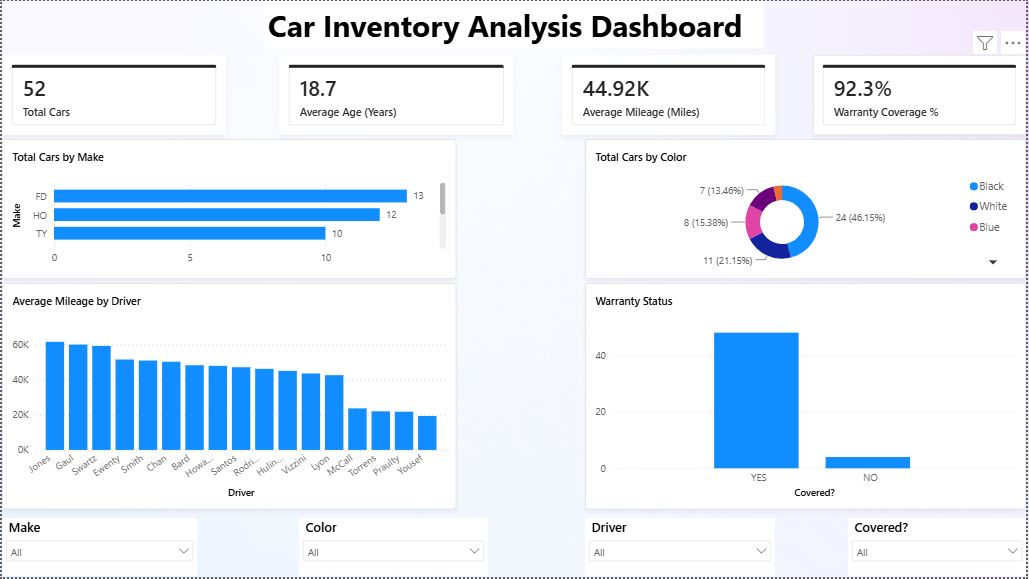

Layout of this report page (visuals, bound fields, positions):
{"tool":"powerbi","page":{"name":"Dashboard","canvas":[1280,720],"ordinal":0},"visuals":[{"type":"cardVisual","fields":{"Data":["Measures .Total Cars"]},"box":[0,68,280,100],"z":0},{"type":"cardVisual","fields":{"Data":["Measures .Average Age"]},"box":[346.7,68,293.3,100],"z":1000},{"type":"cardVisual","fields":{"Data":["Measures .Average Mileage"]},"box":[700,68,266.7,100],"z":2000},{"type":"cardVisual","fields":{"Data":["Measures .Warranty Coverage %"]},"box":[1013.3,68,266.7,100],"z":3000},{"type":"clusteredBarChart","fields":{"Category":["Cars.Make"],"Y":["Measures .Total Cars"]},"box":[0,172,568,174.7],"z":4000},{"type":"donutChart","fields":{"Category":["Cars.Color"],"Y":["Measures .Total Cars"]},"box":[729.3,172,550.7,174.7],"z":5000},{"type":"clusteredColumnChart","fields":{"Category":["Cars.Driver"],"Y":["Measures .Average Mileage"]},"box":[0,352,568,282.7],"z":6000},{"type":"clusteredColumnChart","title":"Warranty Status","fields":{"Category":["Cars.Covered?"],"Y":["Measures .Total Cars"]},"box":[729.3,352,550.7,282.7],"z":7000},{"type":"slicer","fields":{"Values":["Cars.Make"]},"box":[0,646.7,244,72],"z":8000},{"type":"slicer","fields":{"Values":["Cars.Color"]},"box":[370.7,646.7,236,72],"z":9000},{"type":"slicer","fields":{"Values":["Cars.Driver"]},"box":[729.3,646.7,237.3,72],"z":10000},{"type":"slicer","fields":{"Values":["Cars.Covered?"]},"box":[1057.3,646.7,222.7,72],"z":11000},{"type":"textbox","box":[327.3,0,625.3,58.7],"z":12000}]}

Visuals, with their boxes in screenshot pixels (x1, y1, x2, y2), scaled from the page's 1280x720 canvas onto the 1029x579 screenshot:
cardVisual - Measures .Total Cars: 0 55 225 135
cardVisual - Measures .Average Age: 279 55 514 135
cardVisual - Measures .Average Mileage: 563 55 777 135
cardVisual - Measures .Warranty Coverage %: 815 55 1028 135
clusteredBarChart - Cars.Make x Measures .Total Cars: 0 138 457 279
donutChart - Cars.Color x Measures .Total Cars: 586 138 1028 279
clusteredColumnChart - Cars.Driver x Measures .Average Mileage: 0 283 457 510
"Warranty Status" clusteredColumnChart: 586 283 1028 510
slicer - Cars.Make: 0 520 196 578
slicer - Cars.Color: 298 520 488 578
slicer - Cars.Driver: 586 520 777 578
slicer - Cars.Covered?: 850 520 1028 578
textbox: 263 0 766 47
